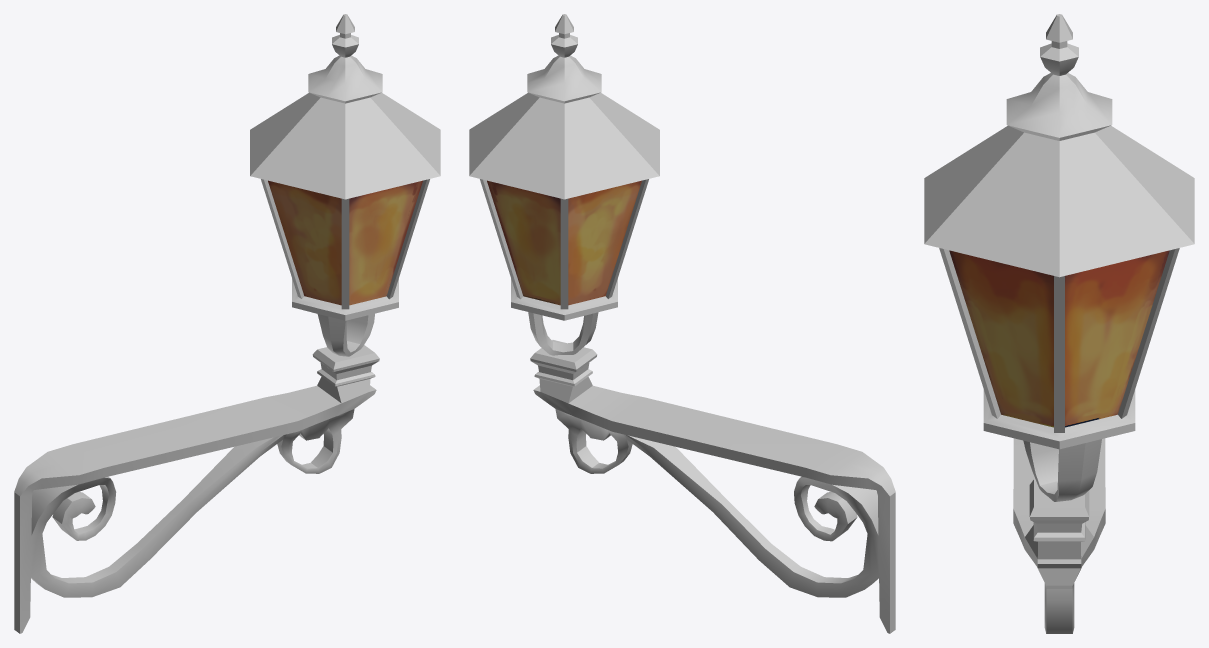
File: lantern_wall.obj
The picture shows the model from 3 angles, left to right: view 1: azimuth 30°, elevation 25°; view 2: azimuth 150°, elevation 25°; view 3: azimuth 270°, elevation 25°; orthographic projection. The views are drawn at different scales.
Parts seen in each view (by area): view 1: Cube; view 2: Cube; view 3: Cube.
Boxes of the visible parts, <box> form: Cube: <box>14,14,440,633</box>; Cube: <box>469,14,895,633</box>; Cube: <box>924,14,1194,633</box>.
Size of the model in its own units: 2.22 by 2.68 by 0.8639.
